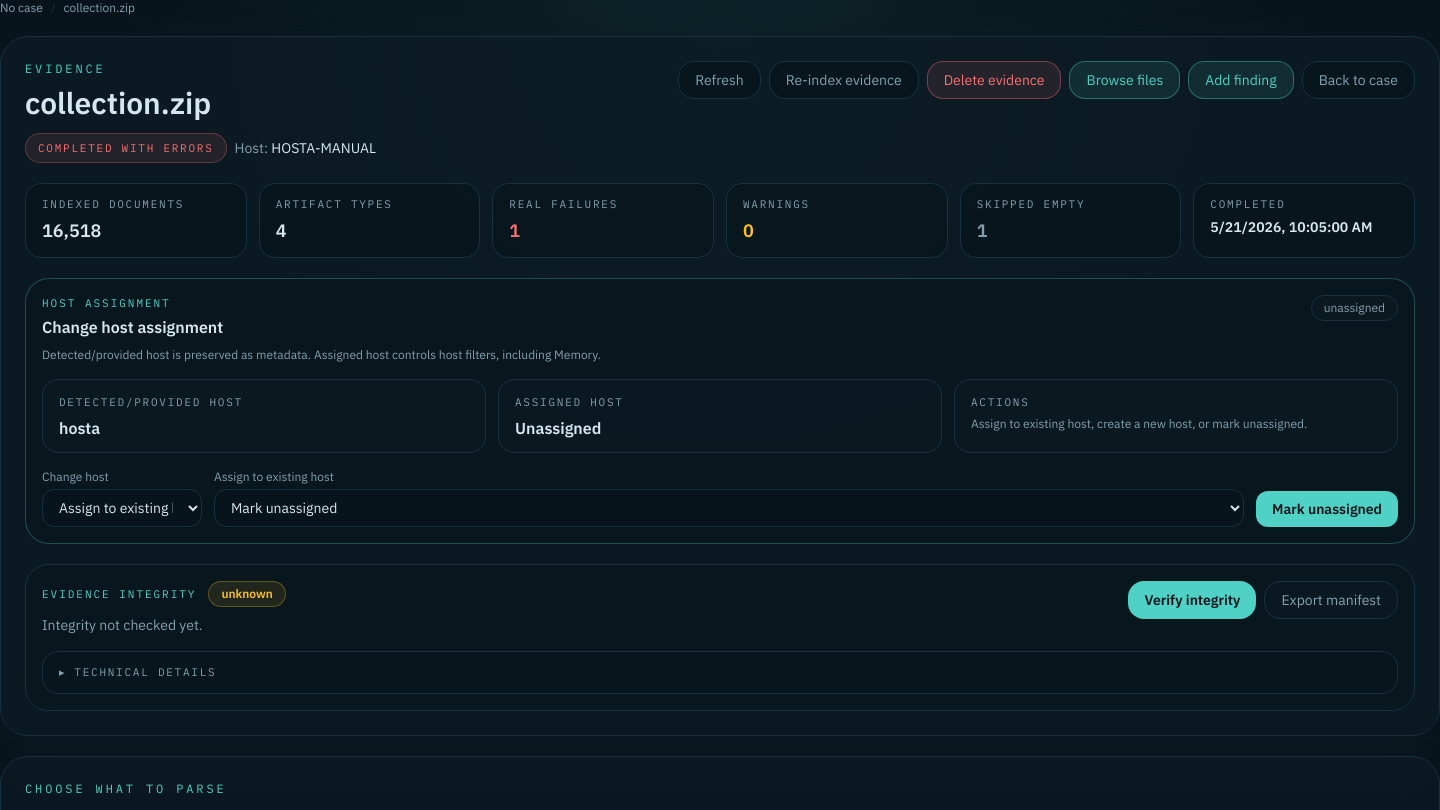
Test: EvidenceDetail minimal processing UX › renders SHA-256 and empty custody state in the integrity panel
The image size is (1440, 810).
Check: the heading "collection.zip" is shown, box [25,83,211,122]
Check: the element with test id "evidence-integrity-panel" is shown, box [25,564,1415,710]
Click the button "▸ Technical details" at {"x": 145, "y": 672}, box [43,652,1397,692]
(page scrolled)
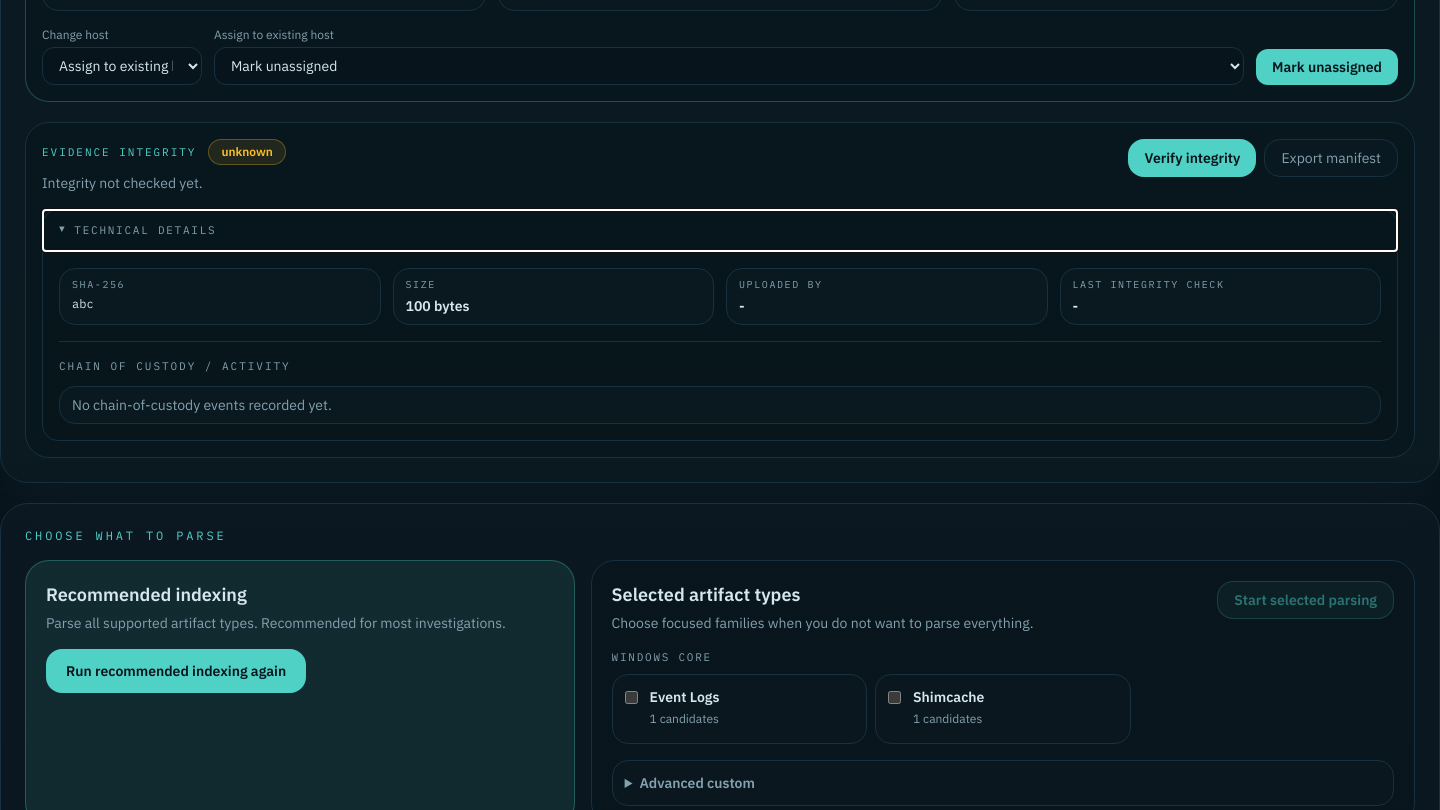
Check: the text "abc" is shown, box [72,296,94,310]
Check: the text "No chain-of-custody events recorded yet." is shown, box [59,386,1381,424]
